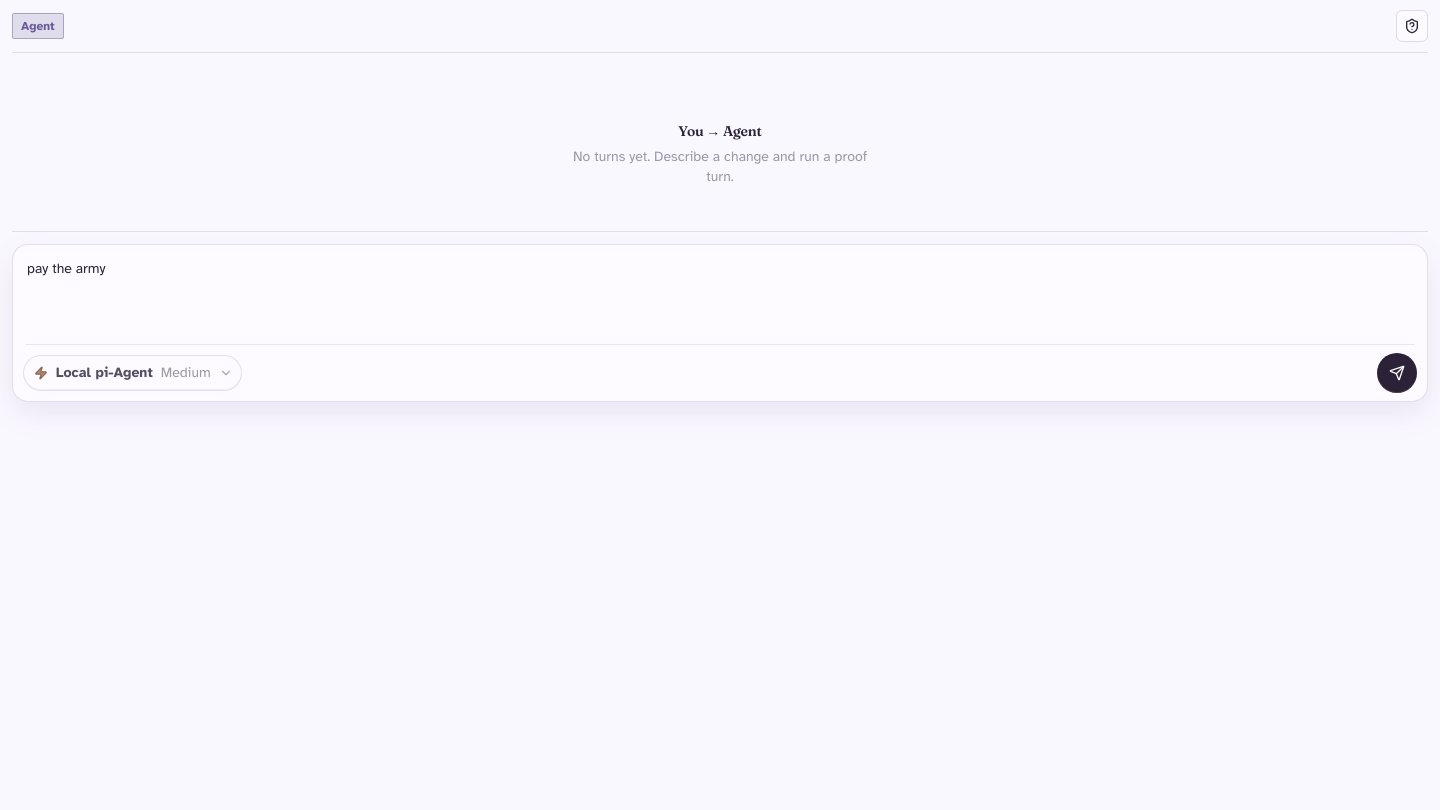
Test: AgentChatRail › toggles the Evidence popover open and closed
expect the text "boundary-evidence-marker" is not shown: met
Click the button named "Evidence" at (1412, 26), box [1396,10,1428,42]
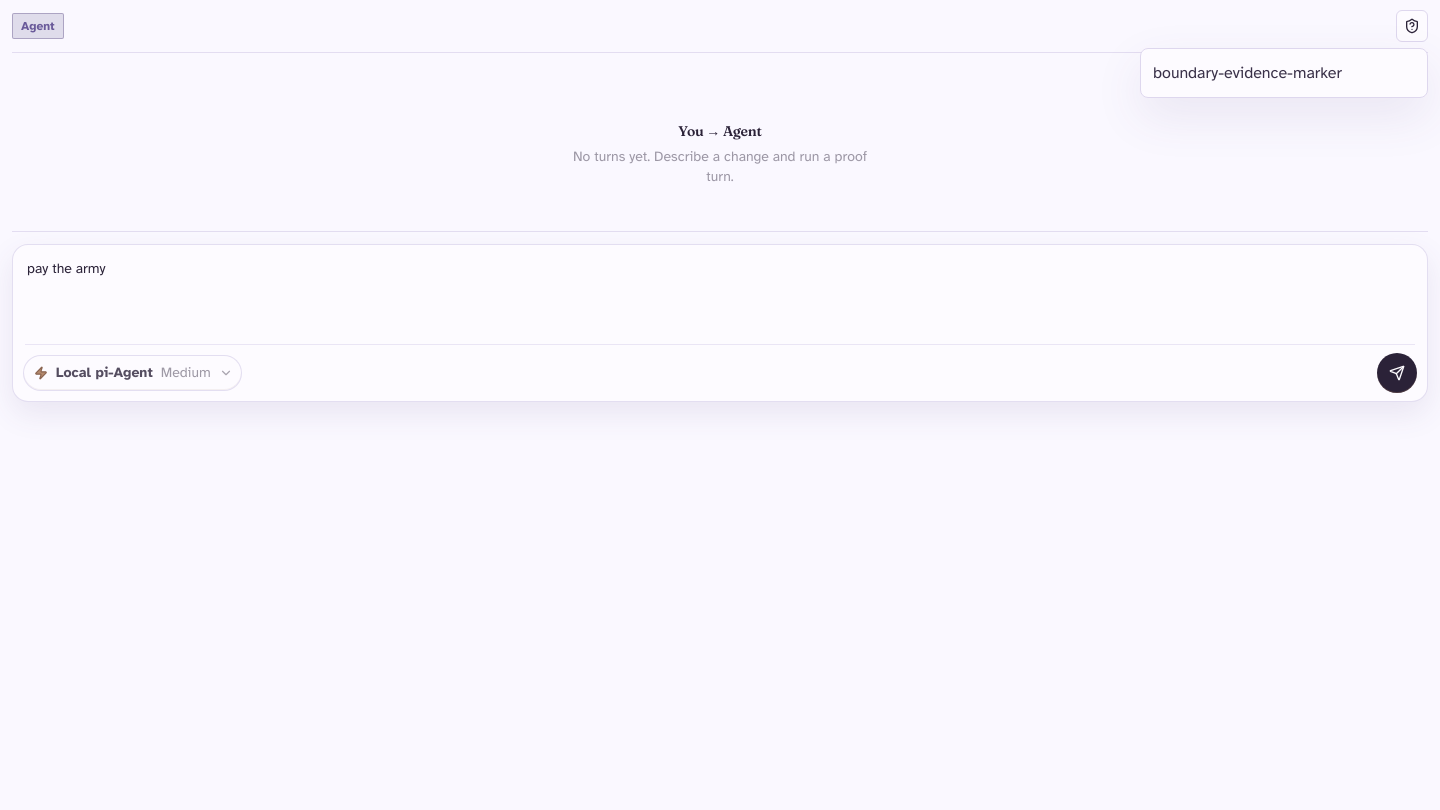
expect the text "boundary-evidence-marker" is shown: met, box [1153,63,1342,83]
// Click again to close.
Click the button named "Evidence" at (1412, 26), box [1396,10,1428,42]
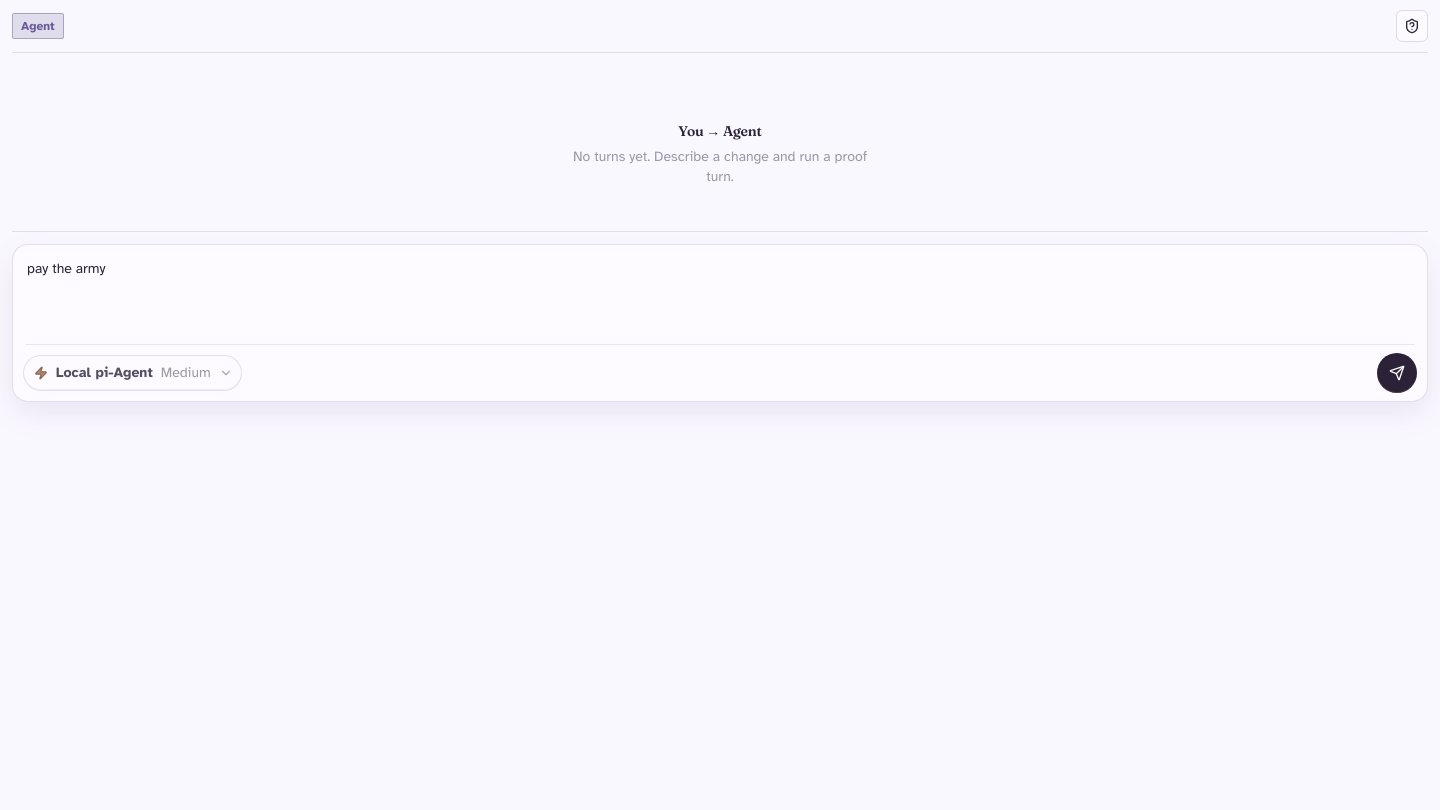
expect the text "boundary-evidence-marker" is gone: met
